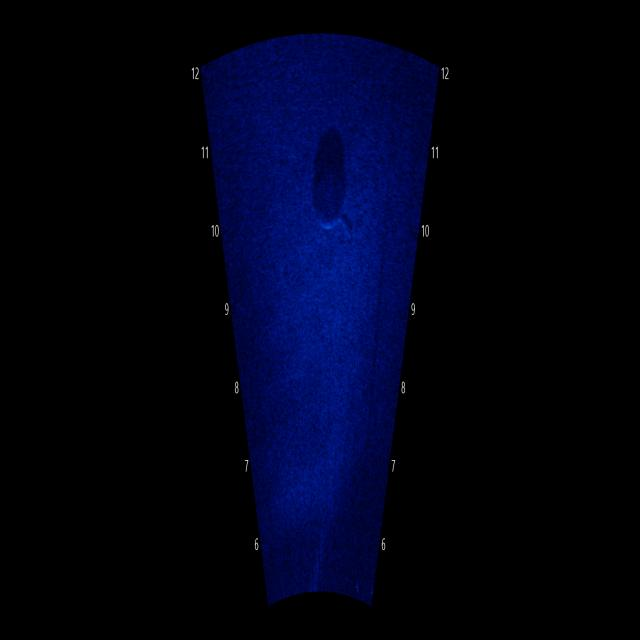circle: (294, 124, 358, 252)
